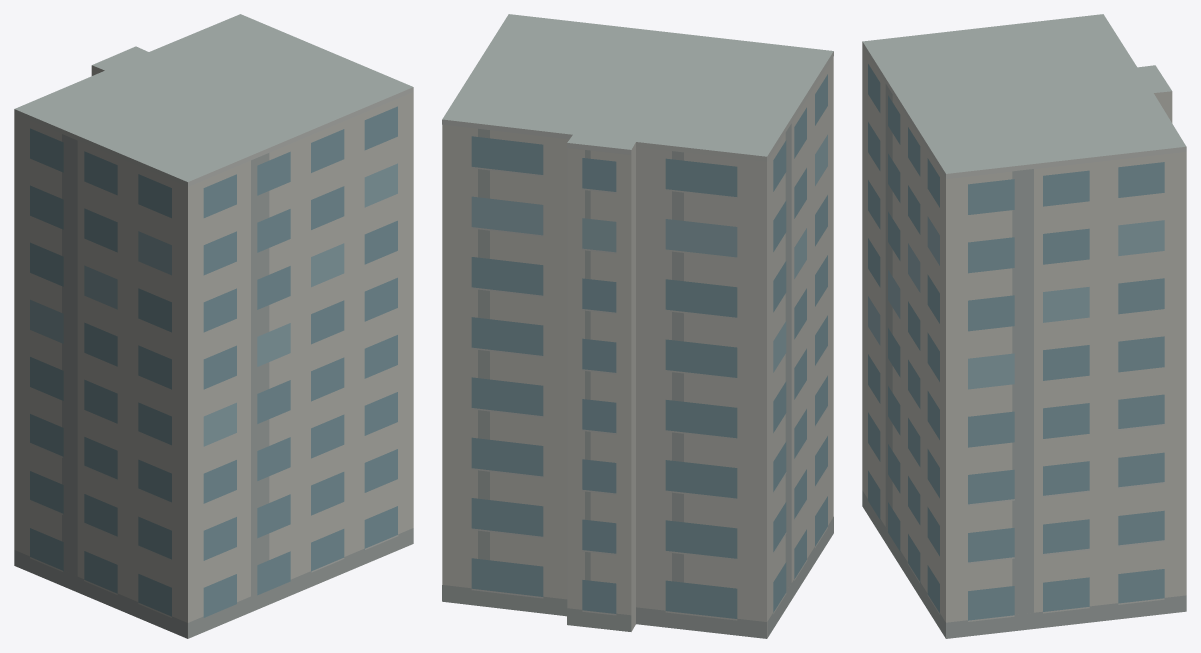
The model's file is survey-upis-32580043.glb.
The picture shows the model from 3 angles, left to right: view 1: azimuth 30°, elevation 25°; view 2: azimuth 150°, elevation 25°; view 3: azimuth 270°, elevation 25°; orthographic projection. The views are drawn at different scales.
Visible parts, largest first — view 1: survey-upis-32580043.tmp; view 2: survey-upis-32580043.tmp; view 3: survey-upis-32580043.tmp.
Part boxes in pixels (x1,y1,x2,y2): survey-upis-32580043.tmp: (14,14,413,638); survey-upis-32580043.tmp: (442,14,833,638); survey-upis-32580043.tmp: (862,14,1186,638).
Bounding box in the file's own units: 16.98 × 23 × 14.54.
